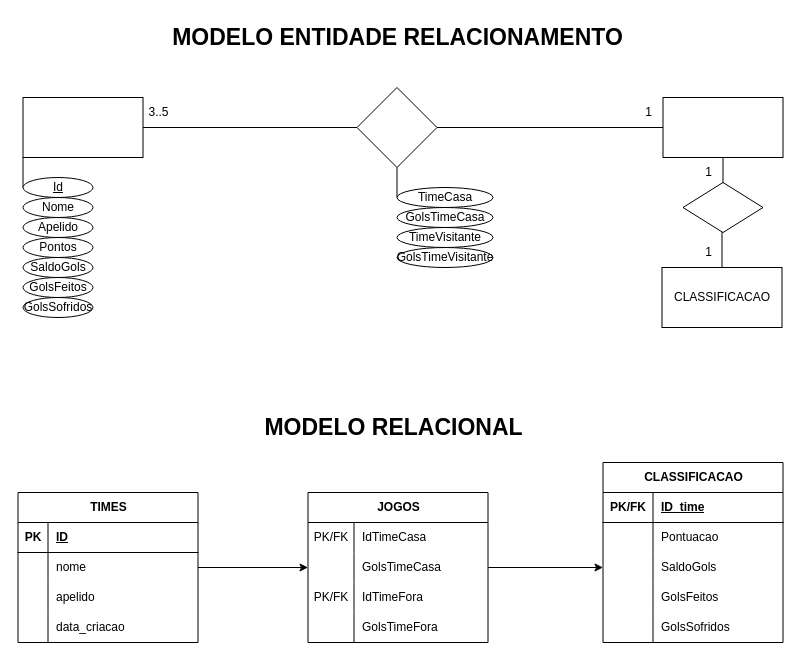
This 800x660 diagram has some shape labels left out. Each missing label, with the centre of its shape:
CAMPEONATO: (x=722, y=127)
JOGA: (x=396, y=127)
TEM: (x=722, y=207)
TIME: (x=82, y=127)
